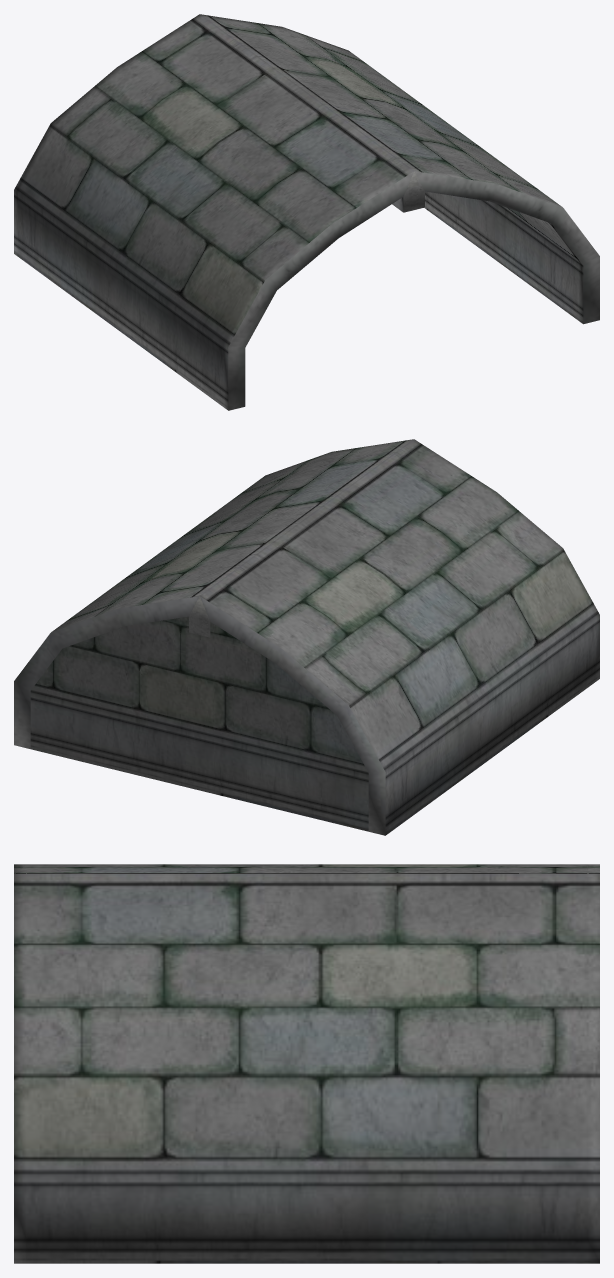
The model's file is barrel_ceiling_large_02.glb.
The picture shows the model from 3 angles, top to bottom: view 1: azimuth 30°, elevation 25°; view 2: azimuth 150°, elevation 25°; view 3: azimuth 270°, elevation 25°; orthographic projection. The views are drawn at different scales.
Visible parts, largest first — view 1: barrel_ceiling_large_02; view 2: barrel_ceiling_large_02; view 3: barrel_ceiling_large_02.
Boxes of the visible parts, x1,y1,x2,y2 form: barrel_ceiling_large_02: (14, 14, 599, 410); barrel_ceiling_large_02: (14, 439, 599, 835); barrel_ceiling_large_02: (14, 864, 599, 1263).
Bounding box in the file's own units: 4 × 2 × 4.
Materials: 1 (1 with a texture image).
